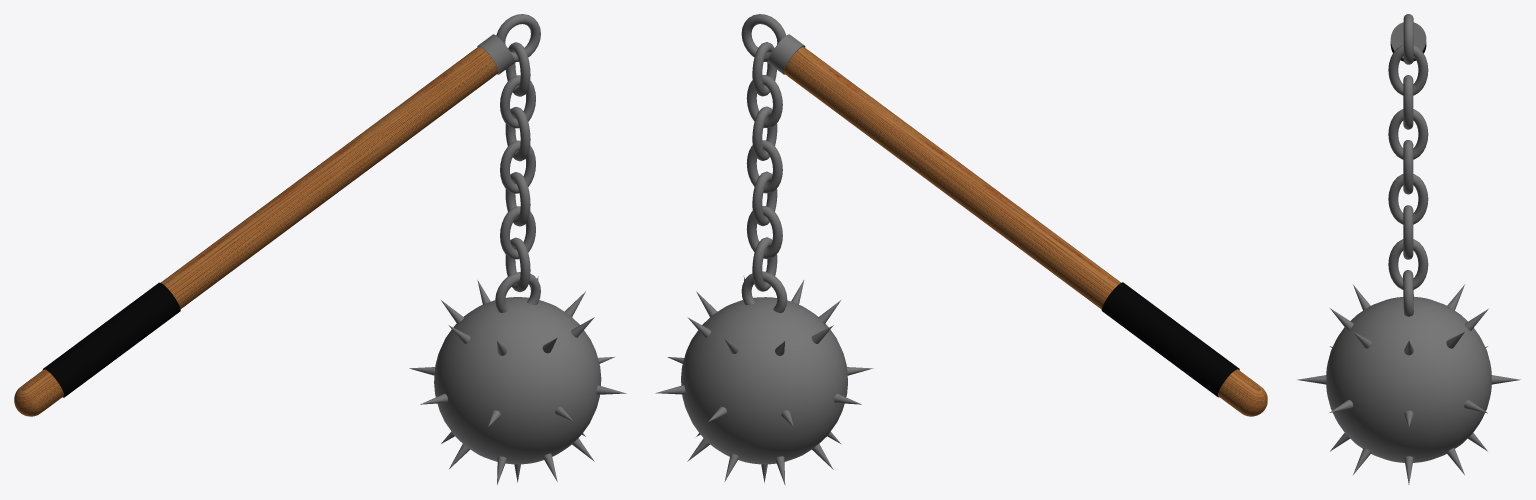
Rendered from SpikedMace2.FBX.
3 views of the same model, side by side, from view 1: azimuth 30°, elevation 25°; view 2: azimuth 150°, elevation 25°; view 3: azimuth 270°, elevation 25° (orthographic).
Parts seen in each view (by area): view 1: Sphere01, OilTank01, Loft03, Loft02, Loft05, Torus02, Loft04, Loft01, Loft06, Torus01, Loft08; view 2: Sphere01, OilTank01, Loft02, Loft05, Loft03, Torus02, Loft01, Loft06, Loft04, Torus01, Loft08; view 3: Sphere01, Loft06, Loft04, Loft08, Loft01, OilTank01, Loft02, Loft03, Loft05, Torus02, Torus01.
Part boxes in pixels (x1=…): Sphere01: x1=434, y1=297, x2=601, y2=464; OilTank01: x1=14, y1=34, x2=514, y2=416; Loft03: x1=500, y1=140, x2=535, y2=193; Loft02: x1=500, y1=206, x2=535, y2=259; Loft05: x1=500, y1=75, x2=535, y2=128; Torus02: x1=496, y1=14, x2=540, y2=62; Loft04: x1=505, y1=172, x2=530, y2=226; Loft01: x1=505, y1=237, x2=530, y2=292; Loft06: x1=505, y1=107, x2=530, y2=161; Torus01: x1=495, y1=272, x2=540, y2=312; Loft08: x1=505, y1=42, x2=530, y2=96; Sphere01: x1=681, y1=297, x2=847, y2=464; OilTank01: x1=768, y1=34, x2=1267, y2=416; Loft02: x1=746, y1=206, x2=782, y2=258; Loft05: x1=746, y1=75, x2=782, y2=127; Loft03: x1=746, y1=140, x2=782, y2=193; Torus02: x1=741, y1=14, x2=785, y2=62; Loft01: x1=752, y1=237, x2=777, y2=291; Loft06: x1=752, y1=106, x2=777, y2=160; Loft04: x1=752, y1=171, x2=777, y2=226; Torus01: x1=741, y1=271, x2=787, y2=312; Loft08: x1=752, y1=42, x2=776, y2=96; Sphere01: x1=1326, y1=296, x2=1491, y2=462; Loft06: x1=1388, y1=109, x2=1428, y2=159; Loft04: x1=1388, y1=174, x2=1428, y2=224; Loft08: x1=1388, y1=45, x2=1428, y2=95; Loft01: x1=1388, y1=239, x2=1428, y2=289; OilTank01: x1=1390, y1=22, x2=1426, y2=61; Loft02: x1=1403, y1=205, x2=1413, y2=259; Loft03: x1=1403, y1=140, x2=1413, y2=194; Loft05: x1=1403, y1=75, x2=1413, y2=129; Torus02: x1=1403, y1=14, x2=1413, y2=64; Torus01: x1=1403, y1=270, x2=1413, y2=316.
Size of the model in its own units: 827 by 618 by 271.
